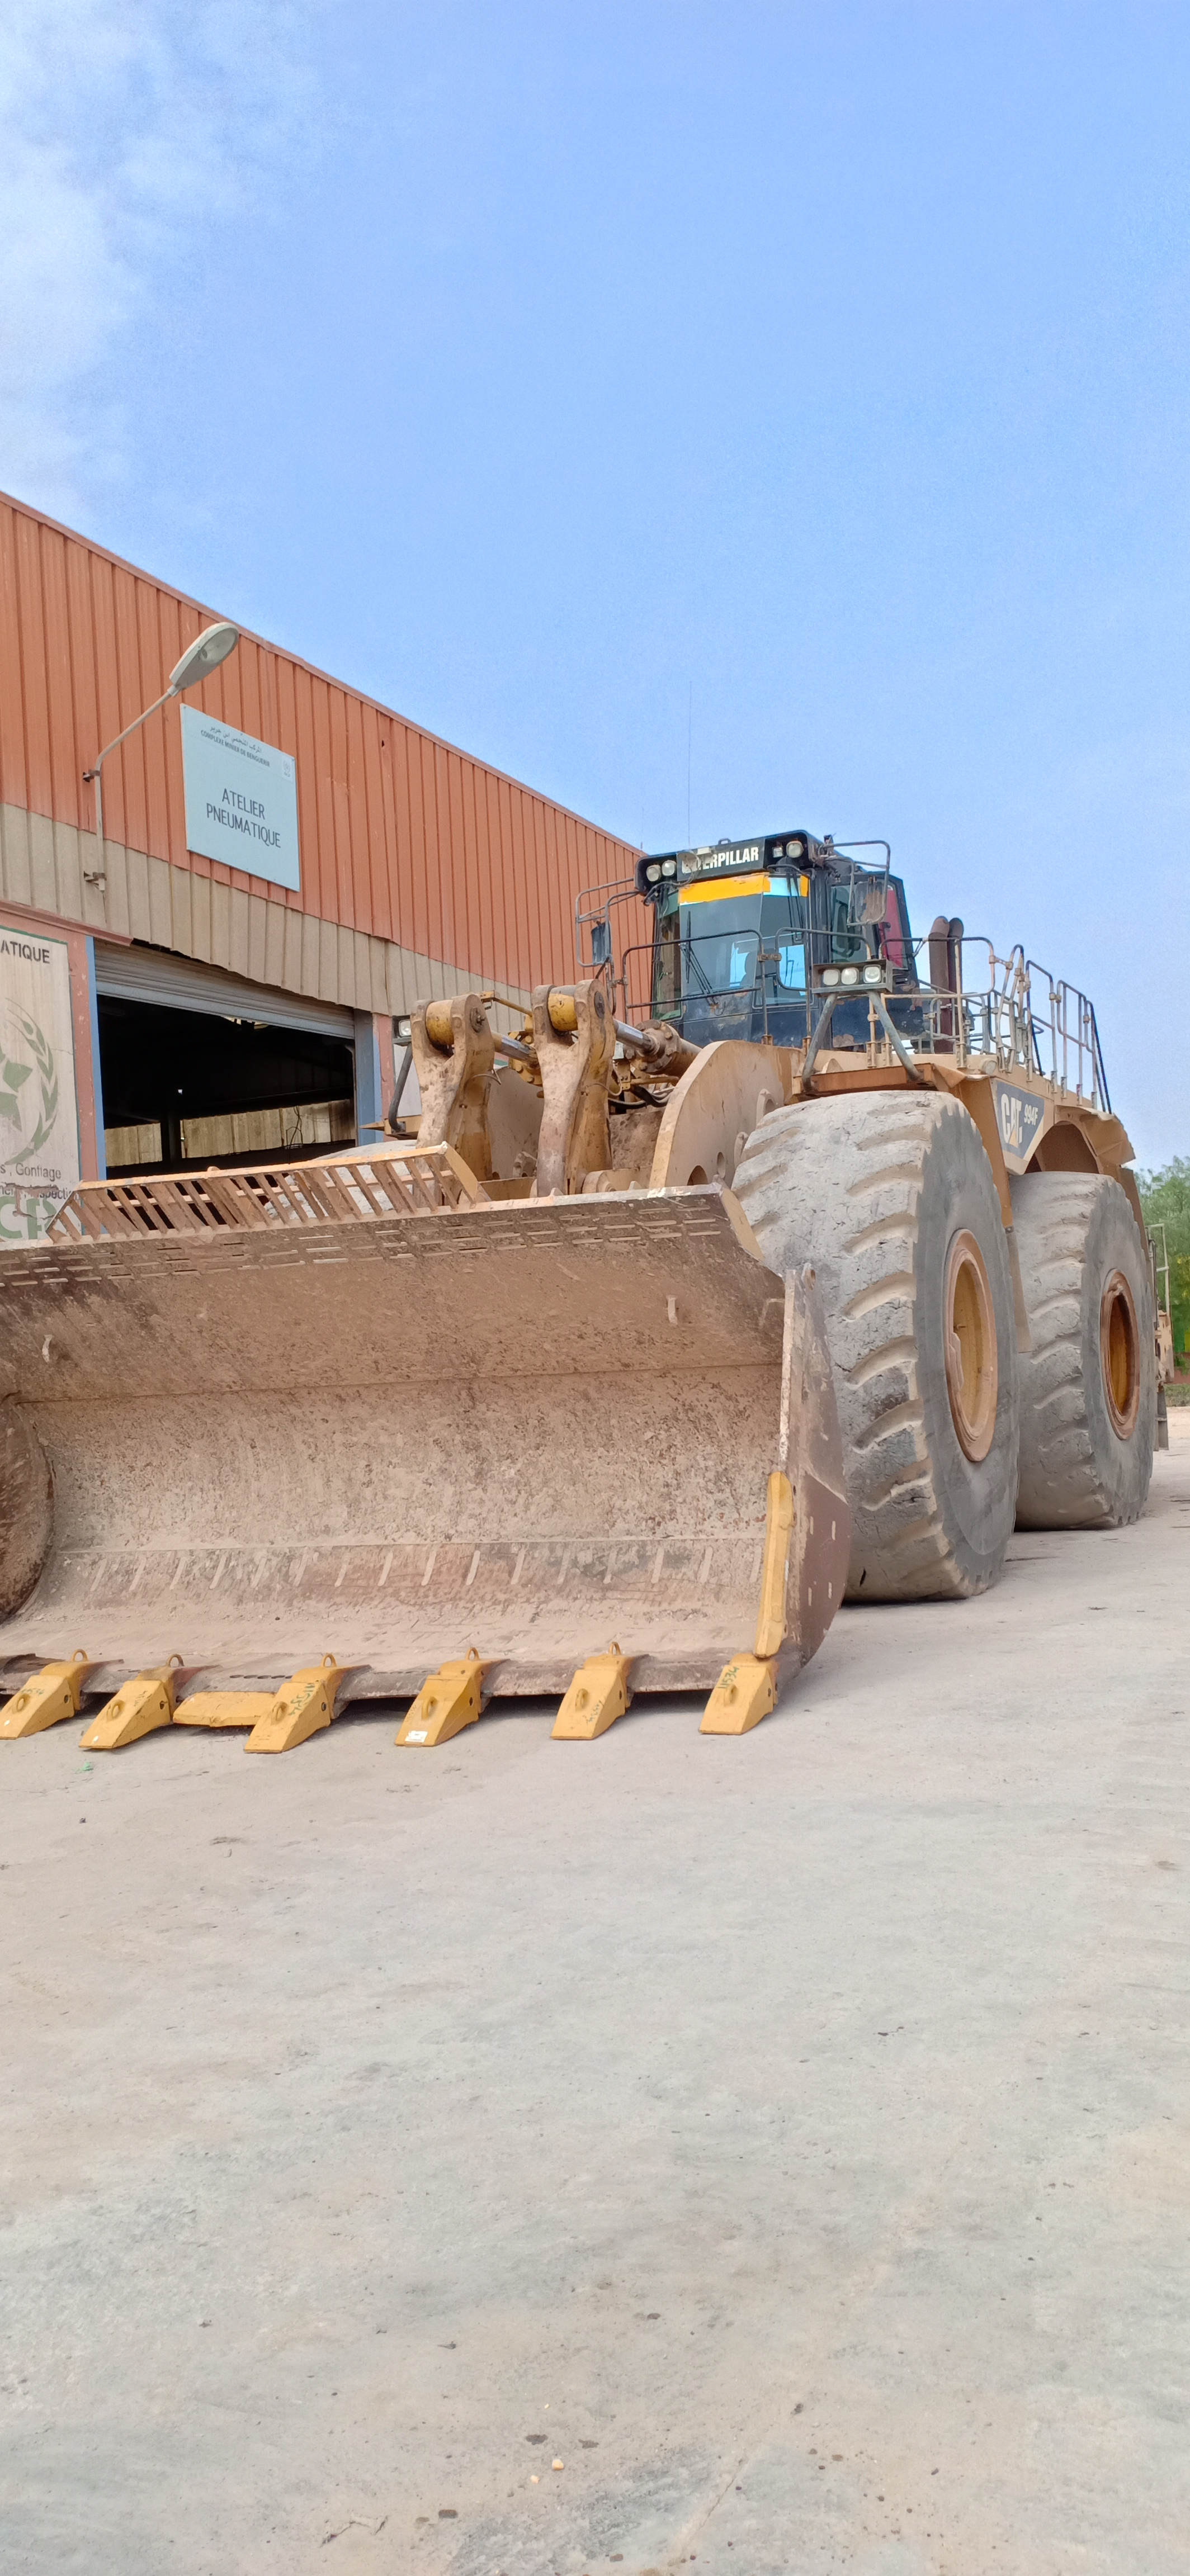chargeuse: (0, 818, 1164, 1787)
